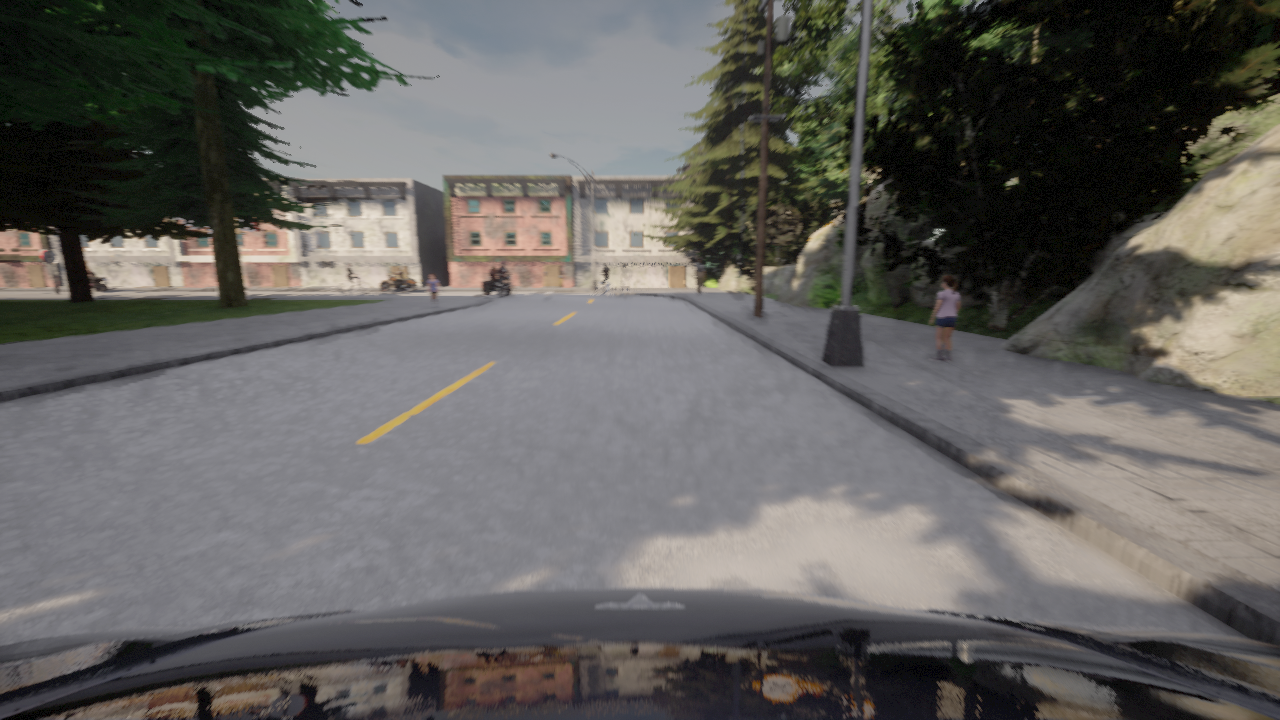cyclist: (0, 588, 1279, 719), (481, 273, 511, 295), (379, 274, 416, 291), (339, 277, 371, 294), (595, 277, 612, 296), (498, 277, 514, 297), (488, 277, 489, 278)
pedestrian: (929, 275, 959, 361), (693, 258, 705, 295), (428, 274, 438, 307)
